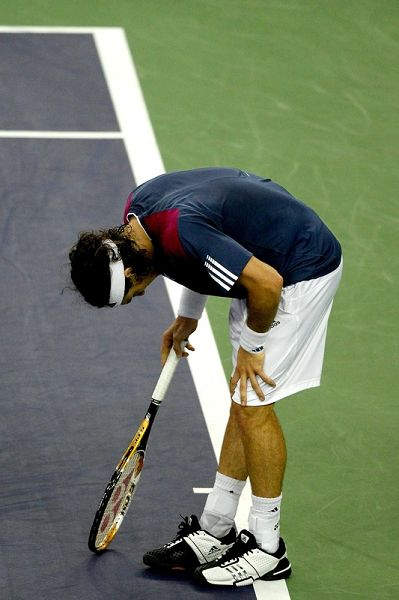bending: (63, 157, 340, 592)
